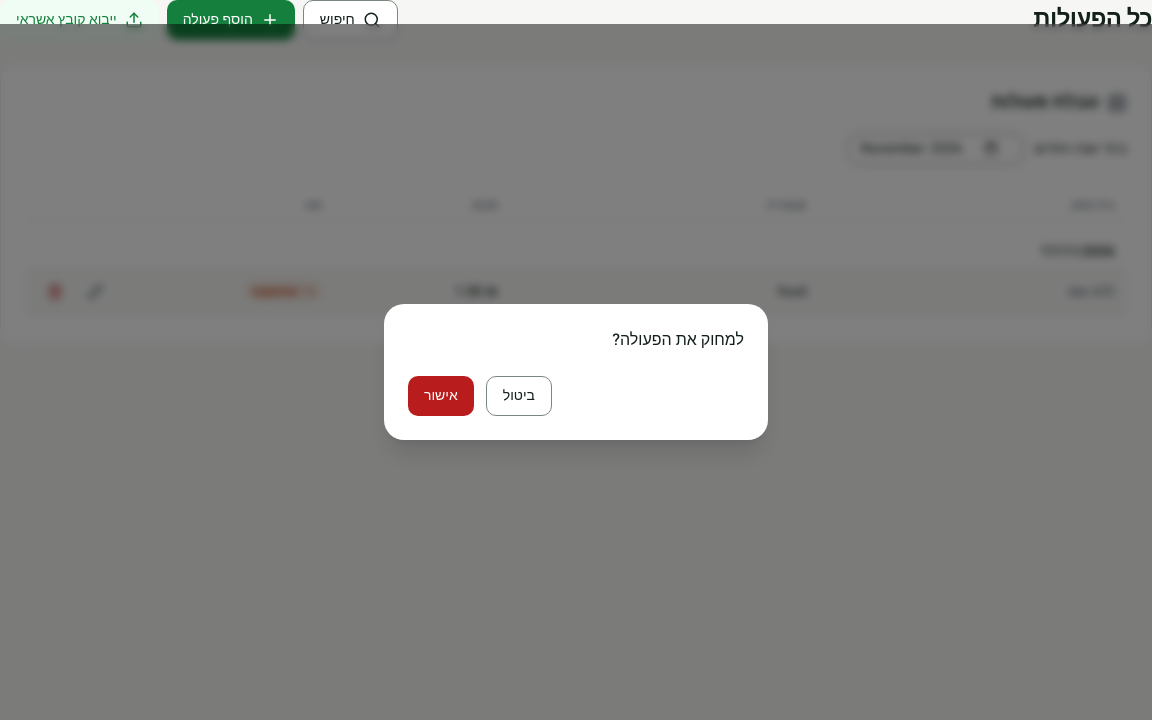
Test case: failed writes › a failed delete shows an inline error and does not use alert()
Earlier steps of the test are not shown.
Click the button with class "confirm" at x=441, y=396, box 408,376 -> 474,416
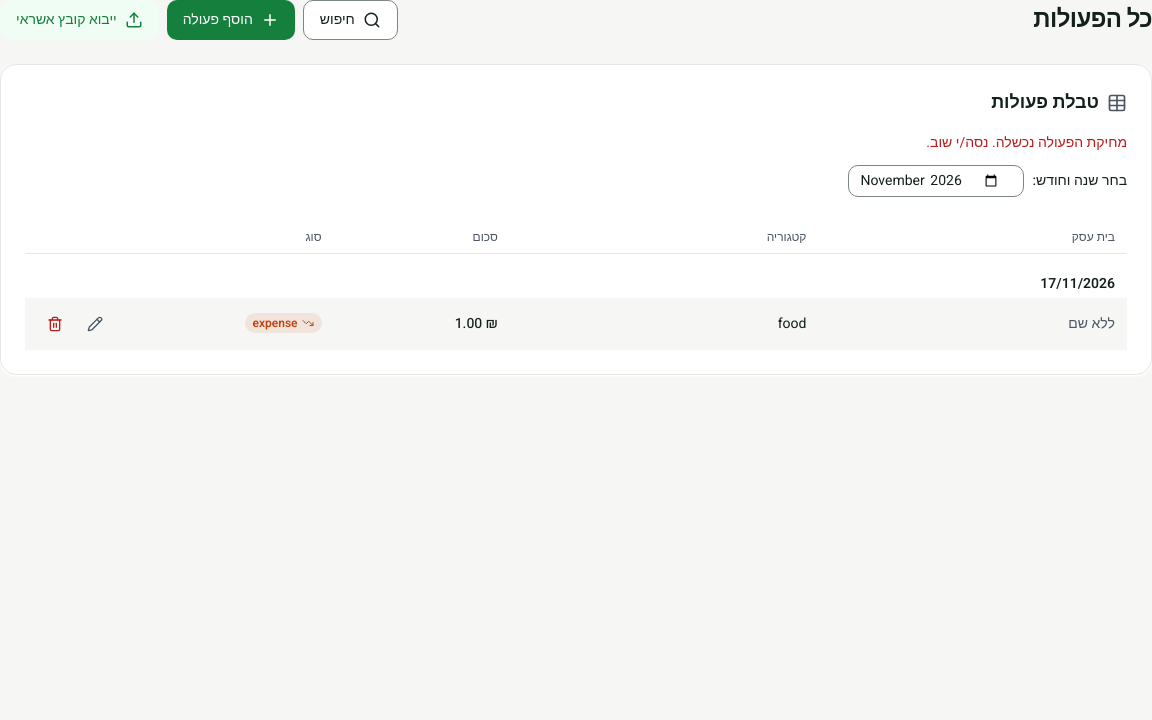
Result: the message "מחיקת הפעולה נכשלה. נסה/י שוב." is shown at 926,132 -> 1127,153
